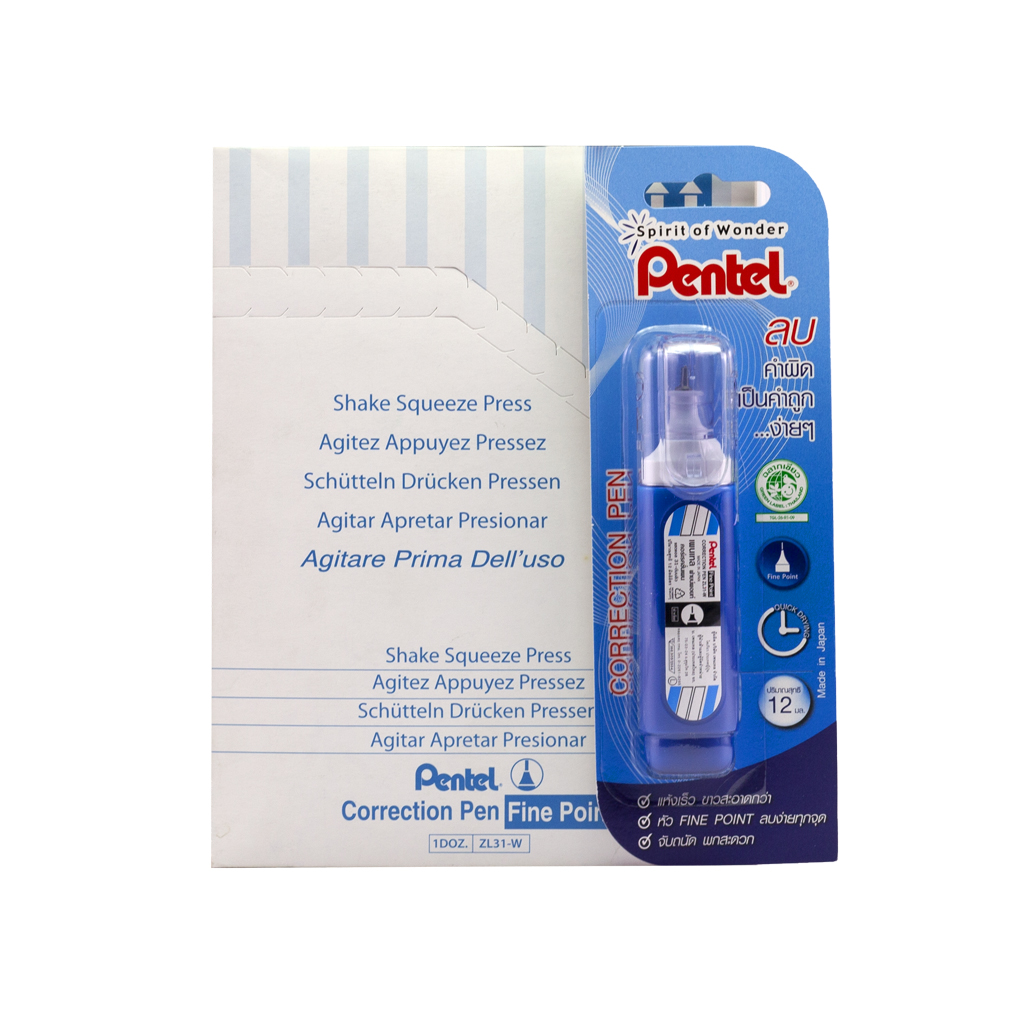Correction_fluid: (628, 316, 749, 793)
